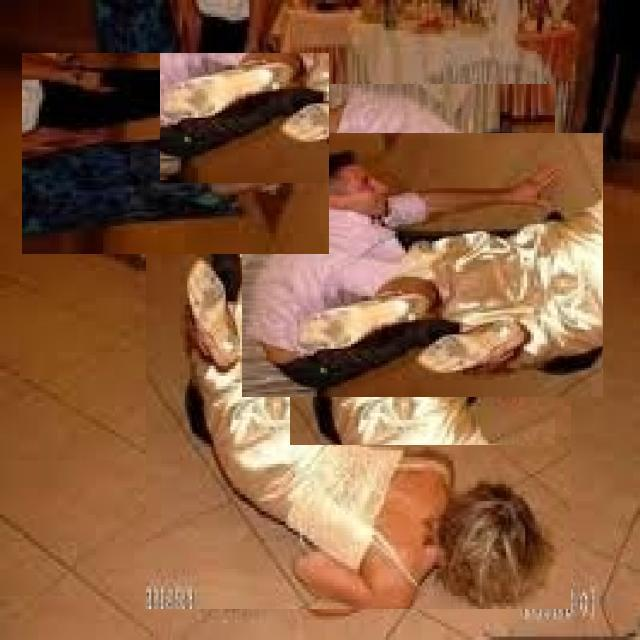Fall: (150, 369, 562, 633), (404, 209, 598, 375)
NotFall: (230, 156, 382, 337)
